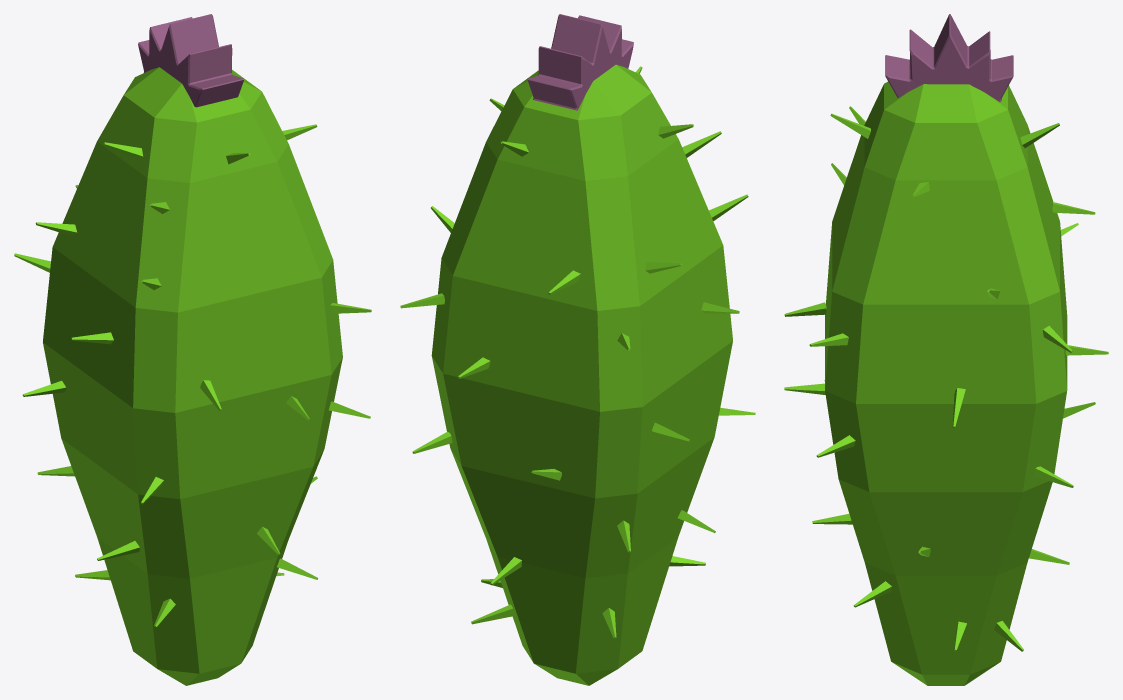
Rendered from Cactus04.fbx.
The picture shows the model from 3 angles, left to right: view 1: azimuth 30°, elevation 25°; view 2: azimuth 150°, elevation 25°; view 3: azimuth 270°, elevation 25°; orthographic projection.
Parts seen in each view (by area): view 1: cactus-4; view 2: cactus-4; view 3: cactus-4.
Boxes of the visible parts, x1,y1,x2,y2 form: cactus-4: (14, 14, 371, 685); cactus-4: (400, 14, 755, 685); cactus-4: (784, 14, 1108, 685).
Size of the model in its own units: 1.44 by 3.28 by 1.47.
